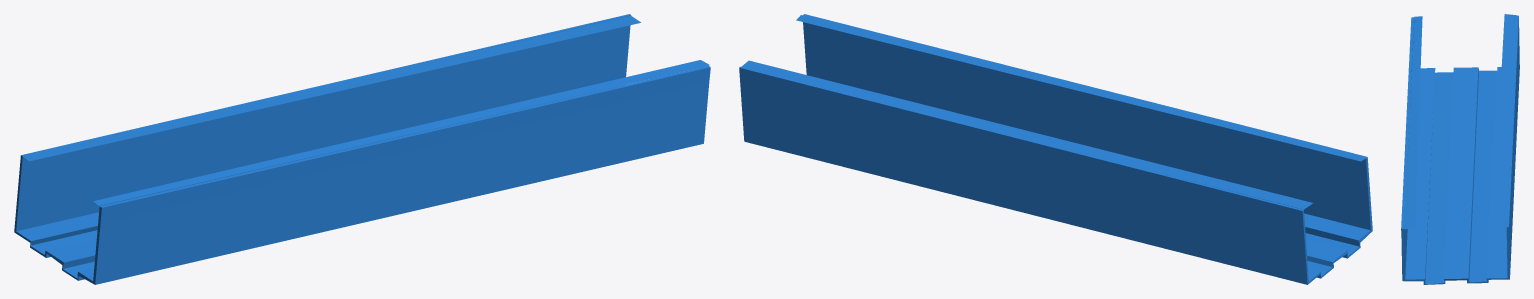
Rendered from cchanel.glb.
3 renders of one model, left to right at view 1: azimuth 30°, elevation 25°; view 2: azimuth 150°, elevation 25°; view 3: azimuth 270°, elevation 25°, orthographic. The views are drawn at different scales.
Parts seen in each view (by area): view 1: Cube; view 2: Cube; view 3: Cube.
Boxes of the visible parts, bbox=[...] form: Cube: bbox=[14, 14, 710, 284]; Cube: bbox=[739, 14, 1372, 284]; Cube: bbox=[1401, 14, 1519, 284].
Bounding box in the file's own units: 17.51 × 2.29 × 4.08.
